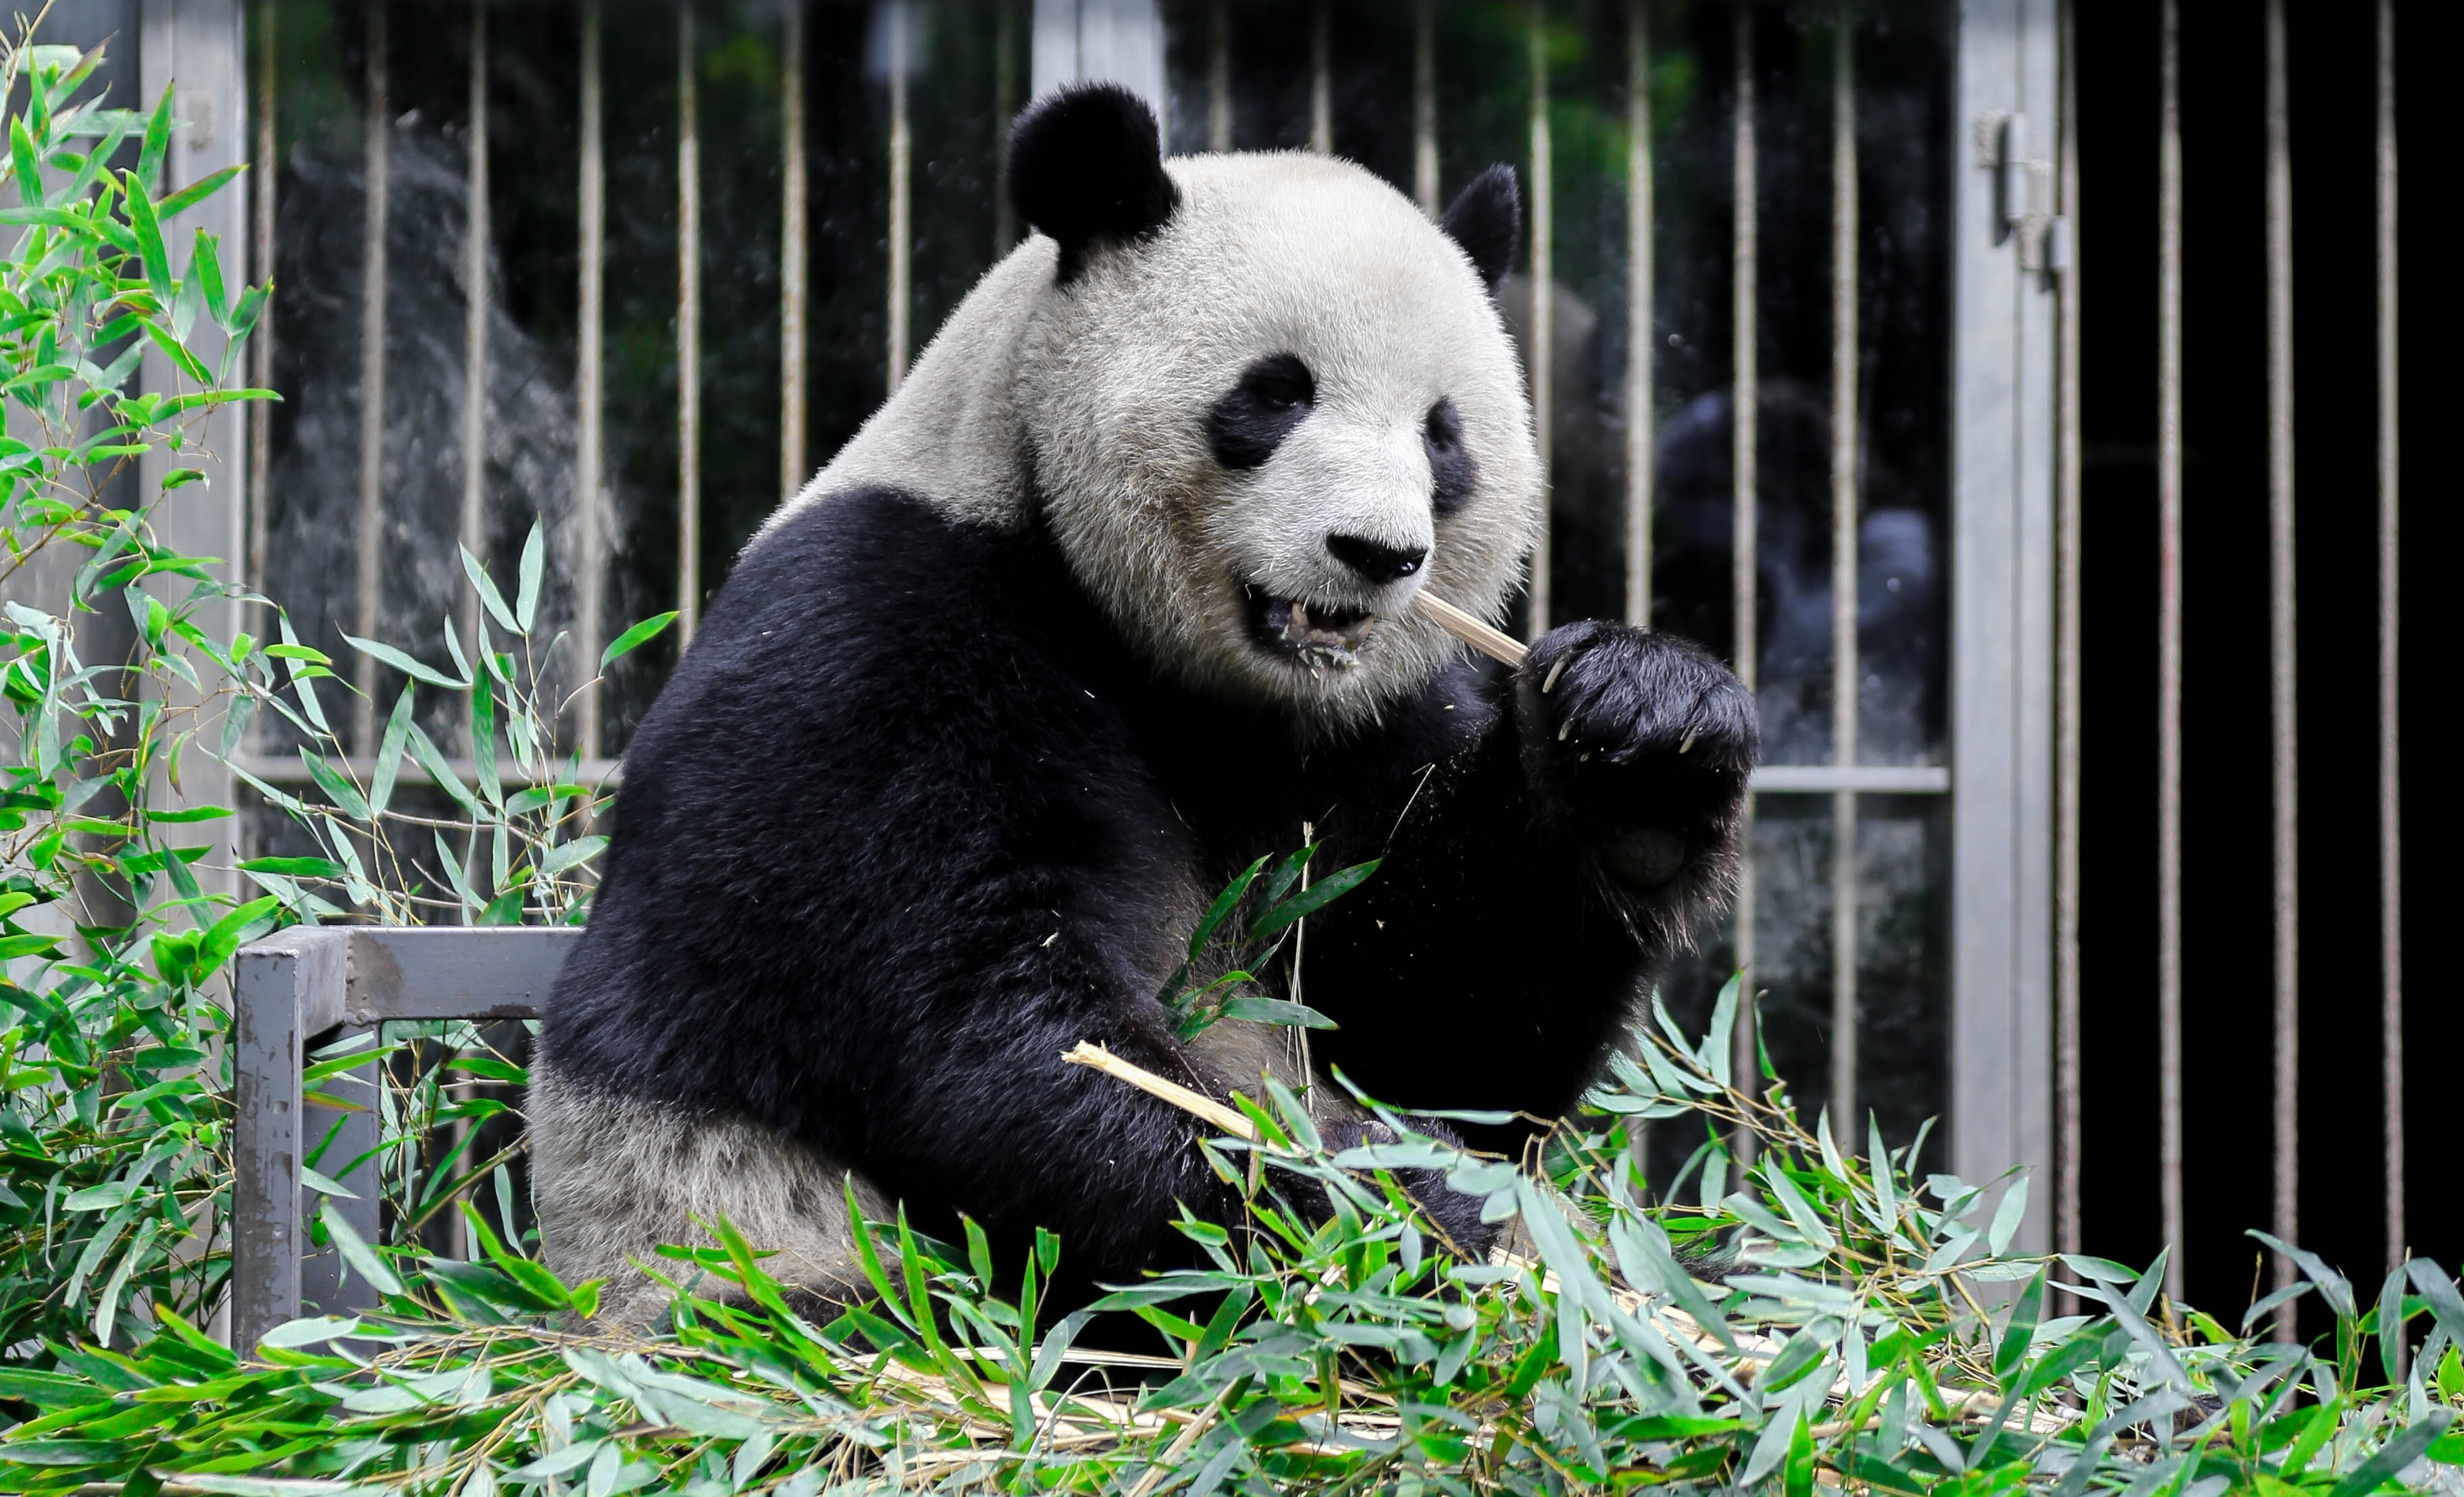panda: (576, 33, 1841, 1355)
